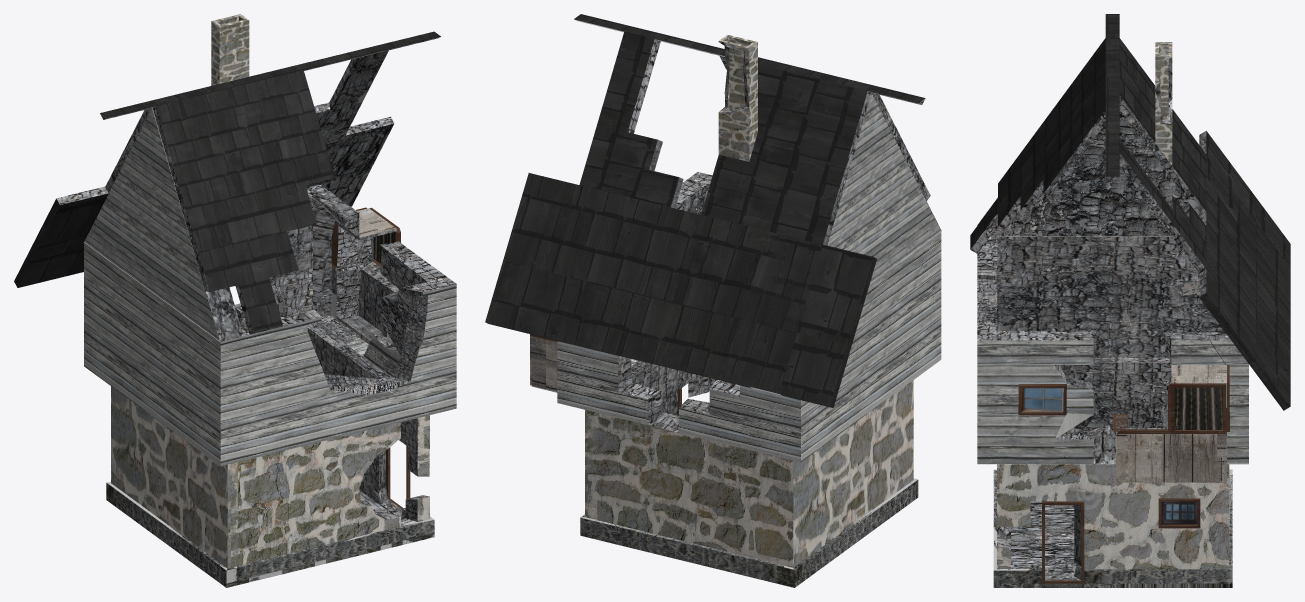
The model's file is yamato-destruct.fbx.
3 views of the same model, side by side, from view 1: azimuth 30°, elevation 25°; view 2: azimuth 150°, elevation 25°; view 3: azimuth 270°, elevation 25° (orthographic). The views are drawn at different scales.
Visible parts, largest first — view 1: Cube; view 2: Cube; view 3: Cube.
Boxes of the visible parts, bbox=[...] form: Cube: bbox=[14, 14, 456, 587]; Cube: bbox=[485, 14, 941, 587]; Cube: bbox=[970, 14, 1290, 587].
Size of the model in its own units: 2138 by 2950 by 1782.
